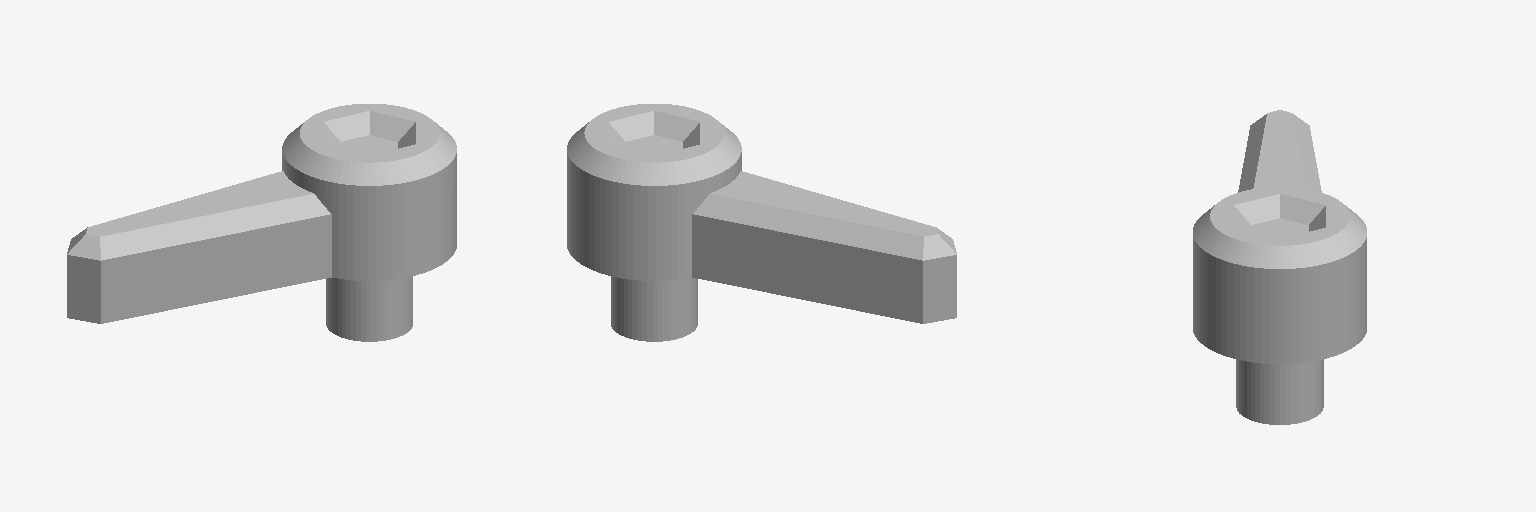
The model's file is compass gun pointer.obj.
The picture shows the model from 3 angles: view 1: azimuth 30°, elevation 25°; view 2: azimuth 150°, elevation 25°; view 3: azimuth 270°, elevation 25°; orthographic projection.
Parts seen in each view (by area): view 1: Solid1; view 2: Solid1; view 3: Solid1.
Boxes of the visible parts, <box> form: Solid1: <box>67,104,456,341</box>; Solid1: <box>567,104,956,341</box>; Solid1: <box>1193,110,1366,424</box>.
Size of the model in its own units: 1.25 by 0.6 by 0.4999.